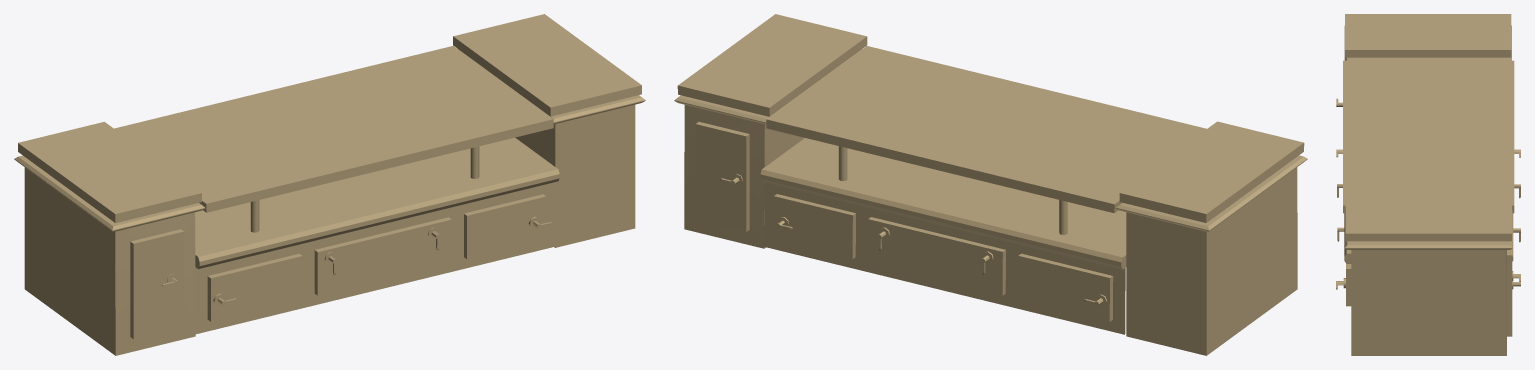
Rendered from Mesa central.fbx.
3 views of the same model, side by side, from view 1: azimuth 30°, elevation 25°; view 2: azimuth 150°, elevation 25°; view 3: azimuth 270°, elevation 25° (orthographic). The views are drawn at different scales.
Parts seen in each view (by area): view 1: vox; view 2: vox; view 3: vox.
Boxes of the visible parts, <box> form: vox: <box>14,14,645,355</box>; vox: <box>674,14,1307,355</box>; vox: <box>1336,14,1520,355</box>.
Size of the model in its own units: 9586 by 2487 by 3370.
